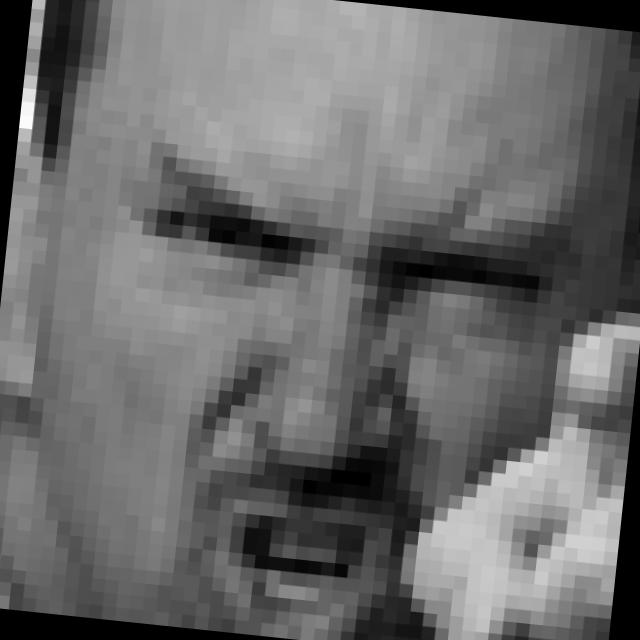angry: (82, 137, 567, 640)
